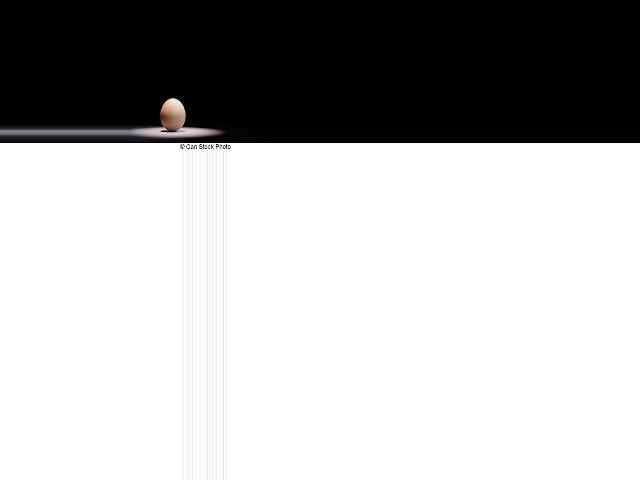egg: (160, 98, 186, 131)
